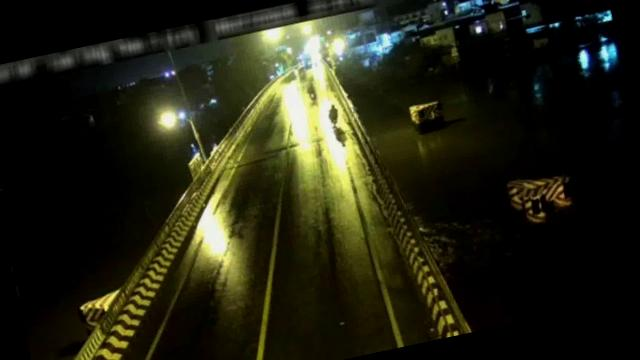Bike: (325, 99, 344, 130), (303, 81, 320, 103)
